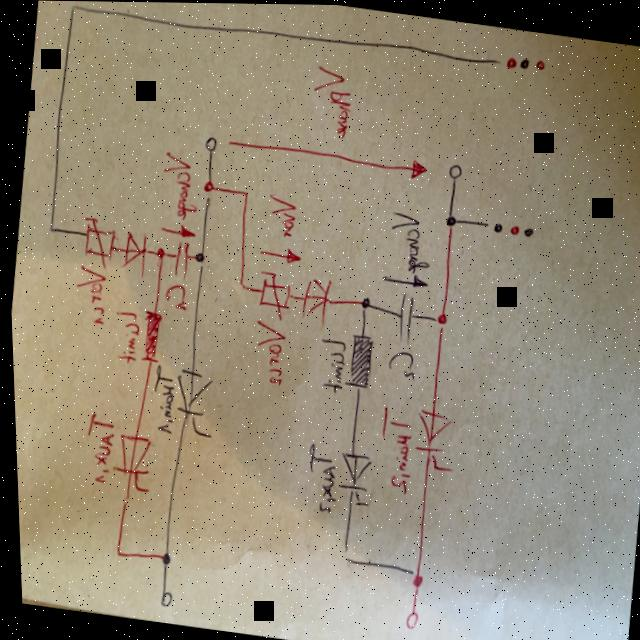capacitor: (390, 288, 414, 347), (167, 238, 189, 281)
diode: (295, 271, 330, 328), (115, 227, 147, 279)
inductor: (337, 329, 373, 389), (133, 307, 161, 364)
junction: (402, 566, 419, 588), (198, 177, 214, 200), (429, 309, 445, 330), (152, 549, 168, 569), (150, 244, 165, 264), (354, 293, 369, 312), (440, 210, 455, 229), (189, 248, 203, 267), (335, 546, 347, 563), (233, 278, 244, 291), (43, 222, 53, 236), (107, 547, 117, 560), (238, 188, 248, 199), (67, 1, 76, 13)
terminal: (492, 50, 516, 69), (397, 607, 414, 630), (152, 587, 169, 608), (443, 160, 461, 178), (200, 133, 215, 151), (481, 217, 500, 231)
text: (368, 402, 414, 494), (304, 61, 354, 142), (152, 148, 201, 222), (381, 206, 434, 274), (295, 439, 338, 513), (74, 409, 114, 487), (243, 316, 285, 385), (66, 262, 108, 327), (141, 361, 177, 435), (309, 333, 344, 393), (104, 307, 140, 365), (259, 189, 297, 239), (380, 346, 415, 381), (158, 278, 187, 312)
thyristor: (165, 364, 211, 437), (405, 405, 452, 472), (103, 430, 150, 494), (328, 446, 370, 506)
